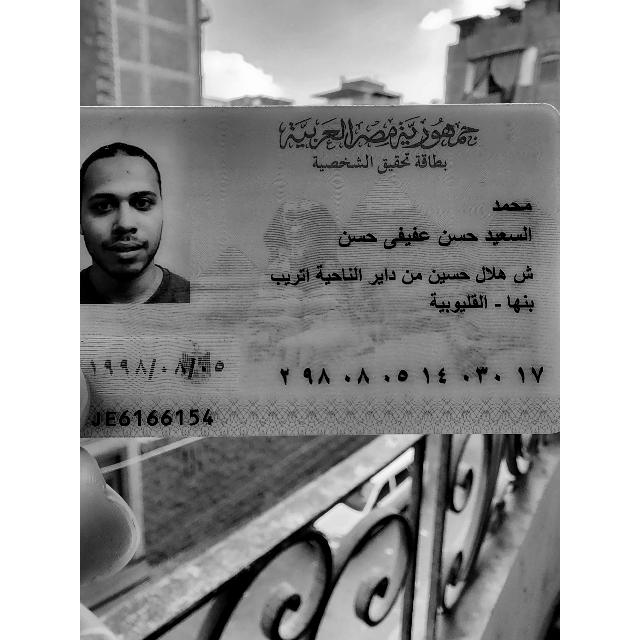id_card: (80, 104, 558, 453)
